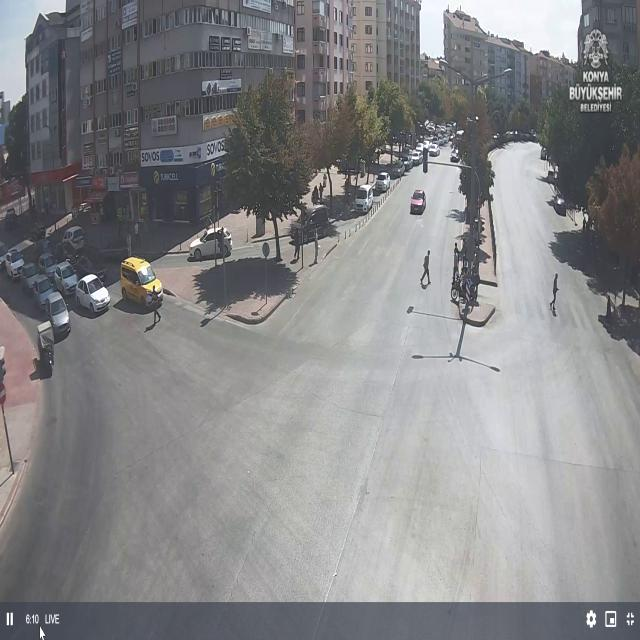Car: (120, 256, 163, 308), (189, 226, 234, 260), (291, 205, 331, 243), (76, 274, 110, 315), (42, 296, 70, 340), (26, 276, 58, 311), (50, 261, 80, 296), (19, 264, 47, 295), (2, 250, 26, 280), (61, 226, 85, 252), (355, 184, 375, 212), (38, 252, 58, 273), (410, 190, 426, 213), (374, 173, 391, 192), (388, 162, 406, 178), (553, 196, 566, 216), (399, 155, 413, 171), (408, 151, 421, 166), (428, 144, 441, 156), (450, 151, 460, 162), (415, 142, 425, 152)
